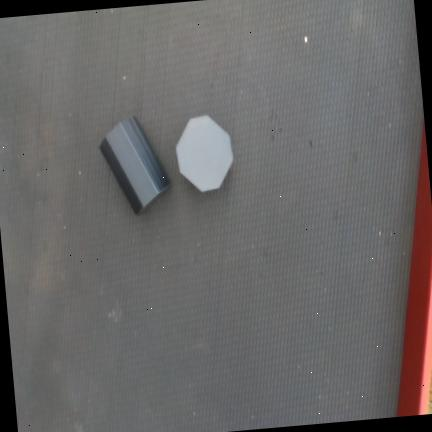Prisma_hexagonal: (99, 115, 171, 214), (177, 115, 233, 192)
